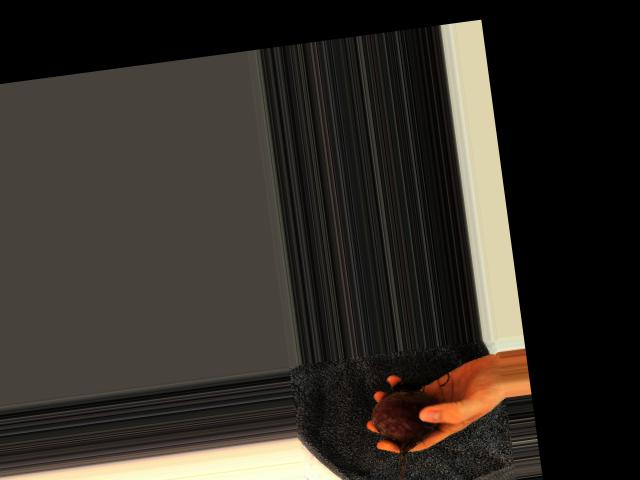beet: (366, 379, 450, 480)
